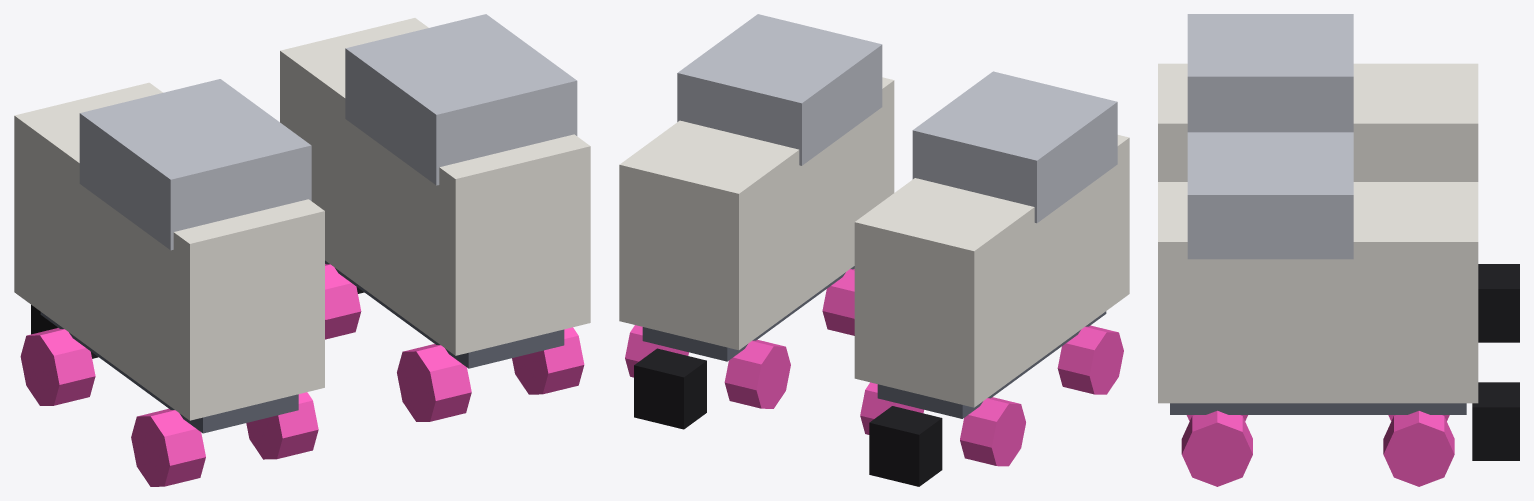
File: SkatesSilver.obj
3 renders of one model, left to right at view 1: azimuth 30°, elevation 25°; view 2: azimuth 150°, elevation 25°; view 3: azimuth 270°, elevation 25°, orthographic. The views are drawn at different scales.
Parts seen in each view (by area): view 1: SkatesSilver; view 2: SkatesSilver; view 3: SkatesSilver.
Boxes of the visible parts, left/top/right/bottom form: SkatesSilver: left=14, top=14, right=590, bottom=486; SkatesSilver: left=619, top=14, right=1129, bottom=486; SkatesSilver: left=1158, top=14, right=1519, bottom=486.
Bounding box in the file's own units: 0.368 × 0.27 × 0.305.
Materials: 5 (5 with a texture image).
